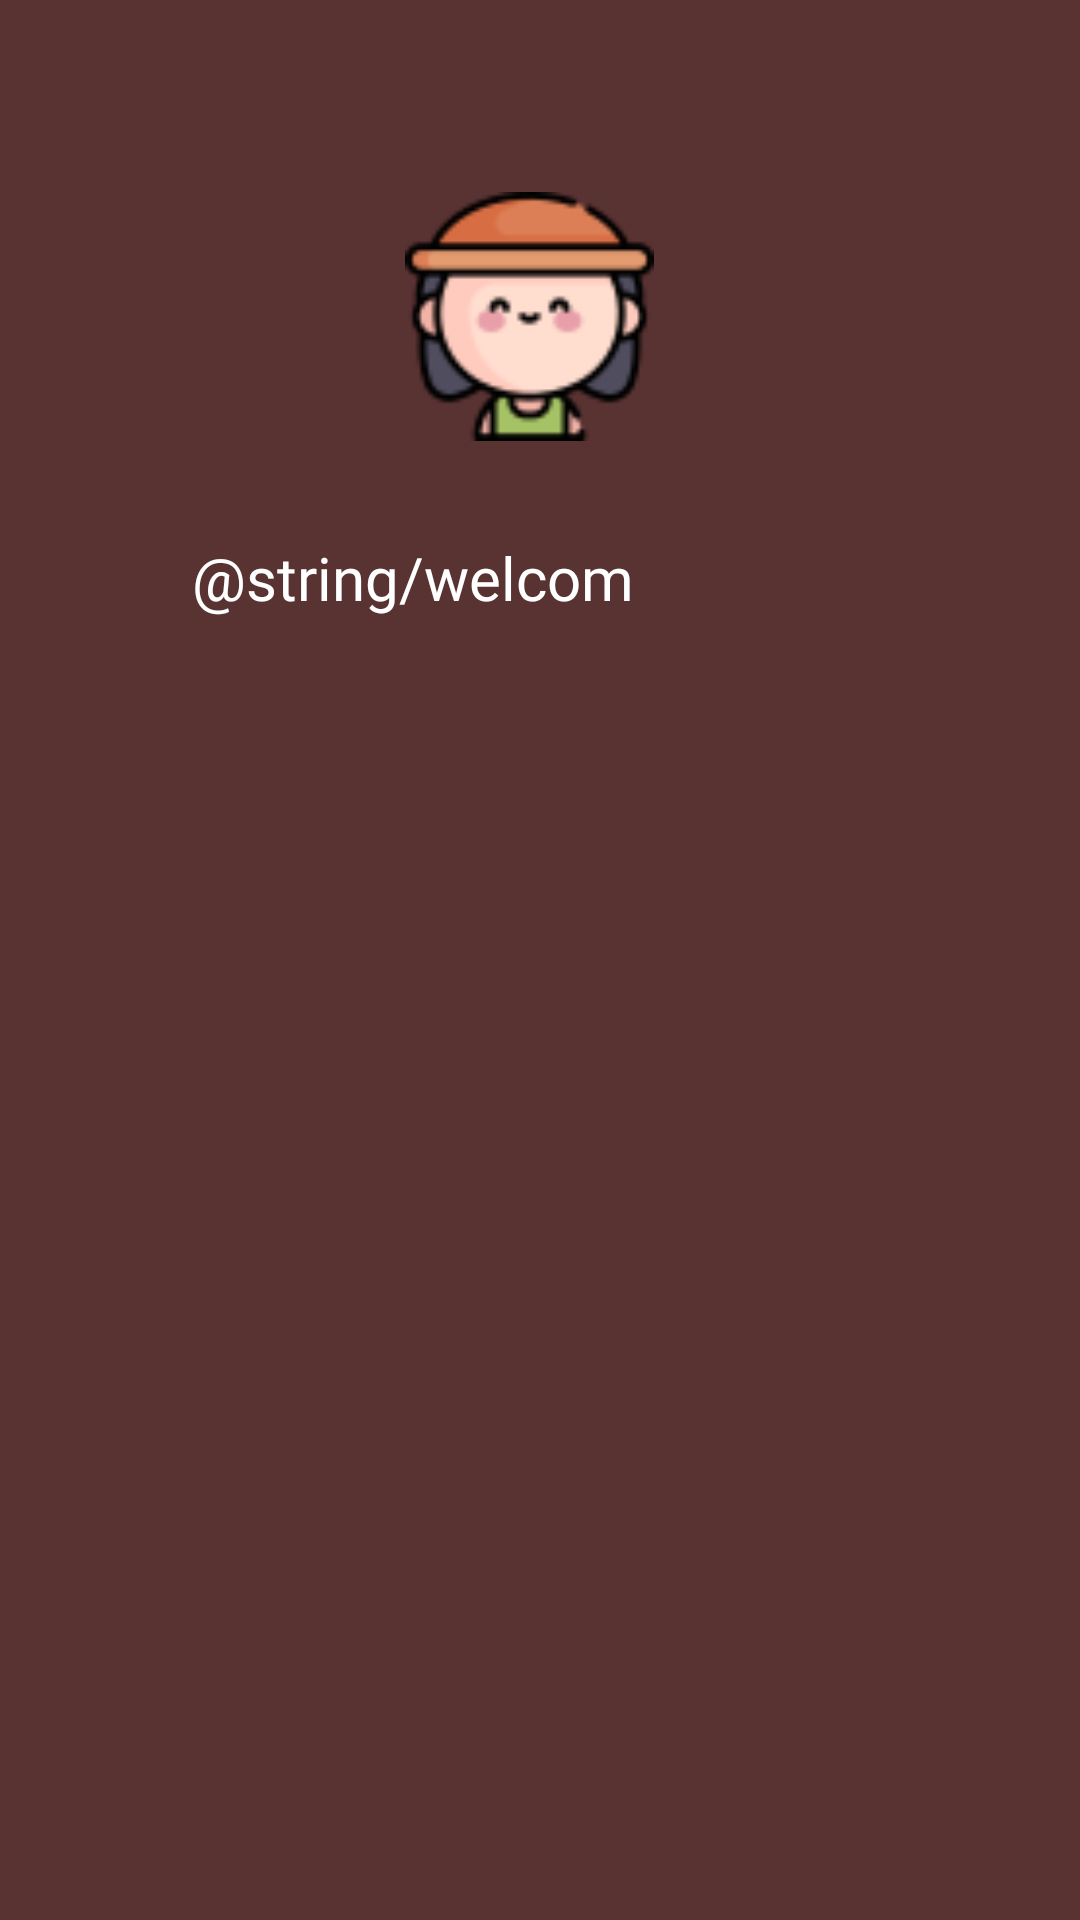

Icon click points for this 1080 x 1920 phone screenshot, format (x,y):
person: (529,316)
